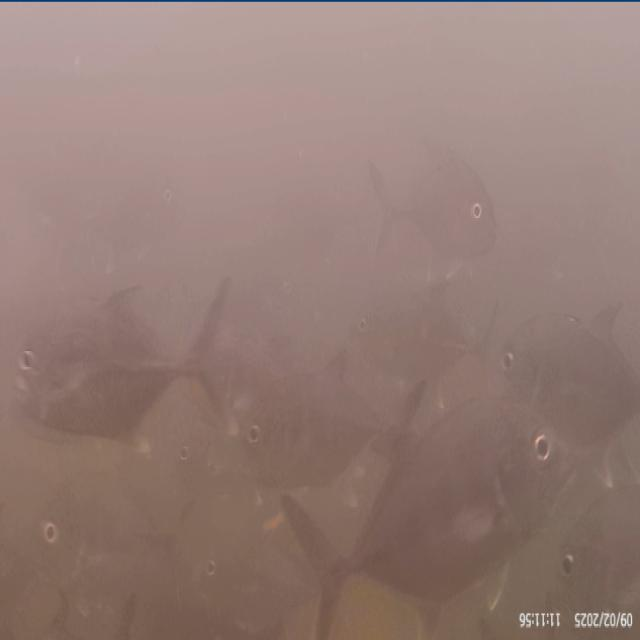ikan: (284, 344, 585, 593), (324, 116, 519, 303), (34, 278, 248, 448)
